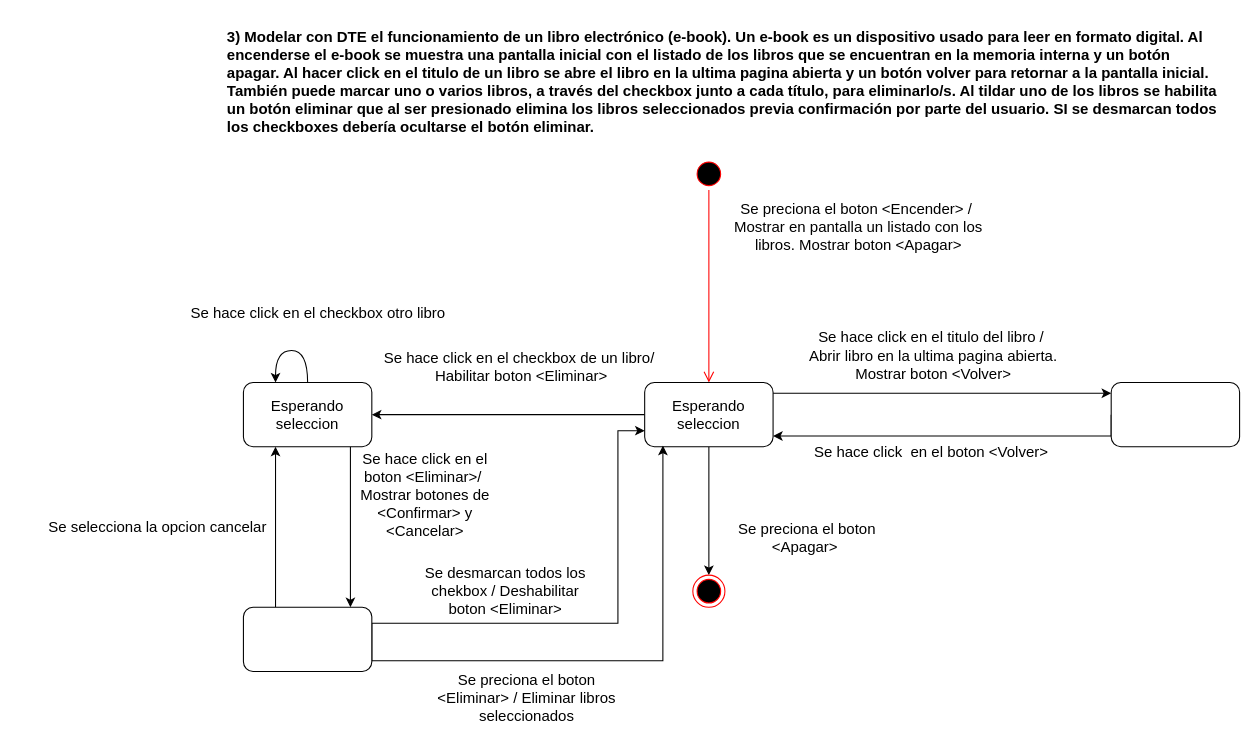
The diagram is 1258 pixels wide and 743 high, and some of its shapes have lost their labels. The centre of each missing label's shape, as x and y in pixels:
"Esperando confirmacion" goes at (x=307, y=638).
"Mostrando libro" goes at (x=1175, y=414).
